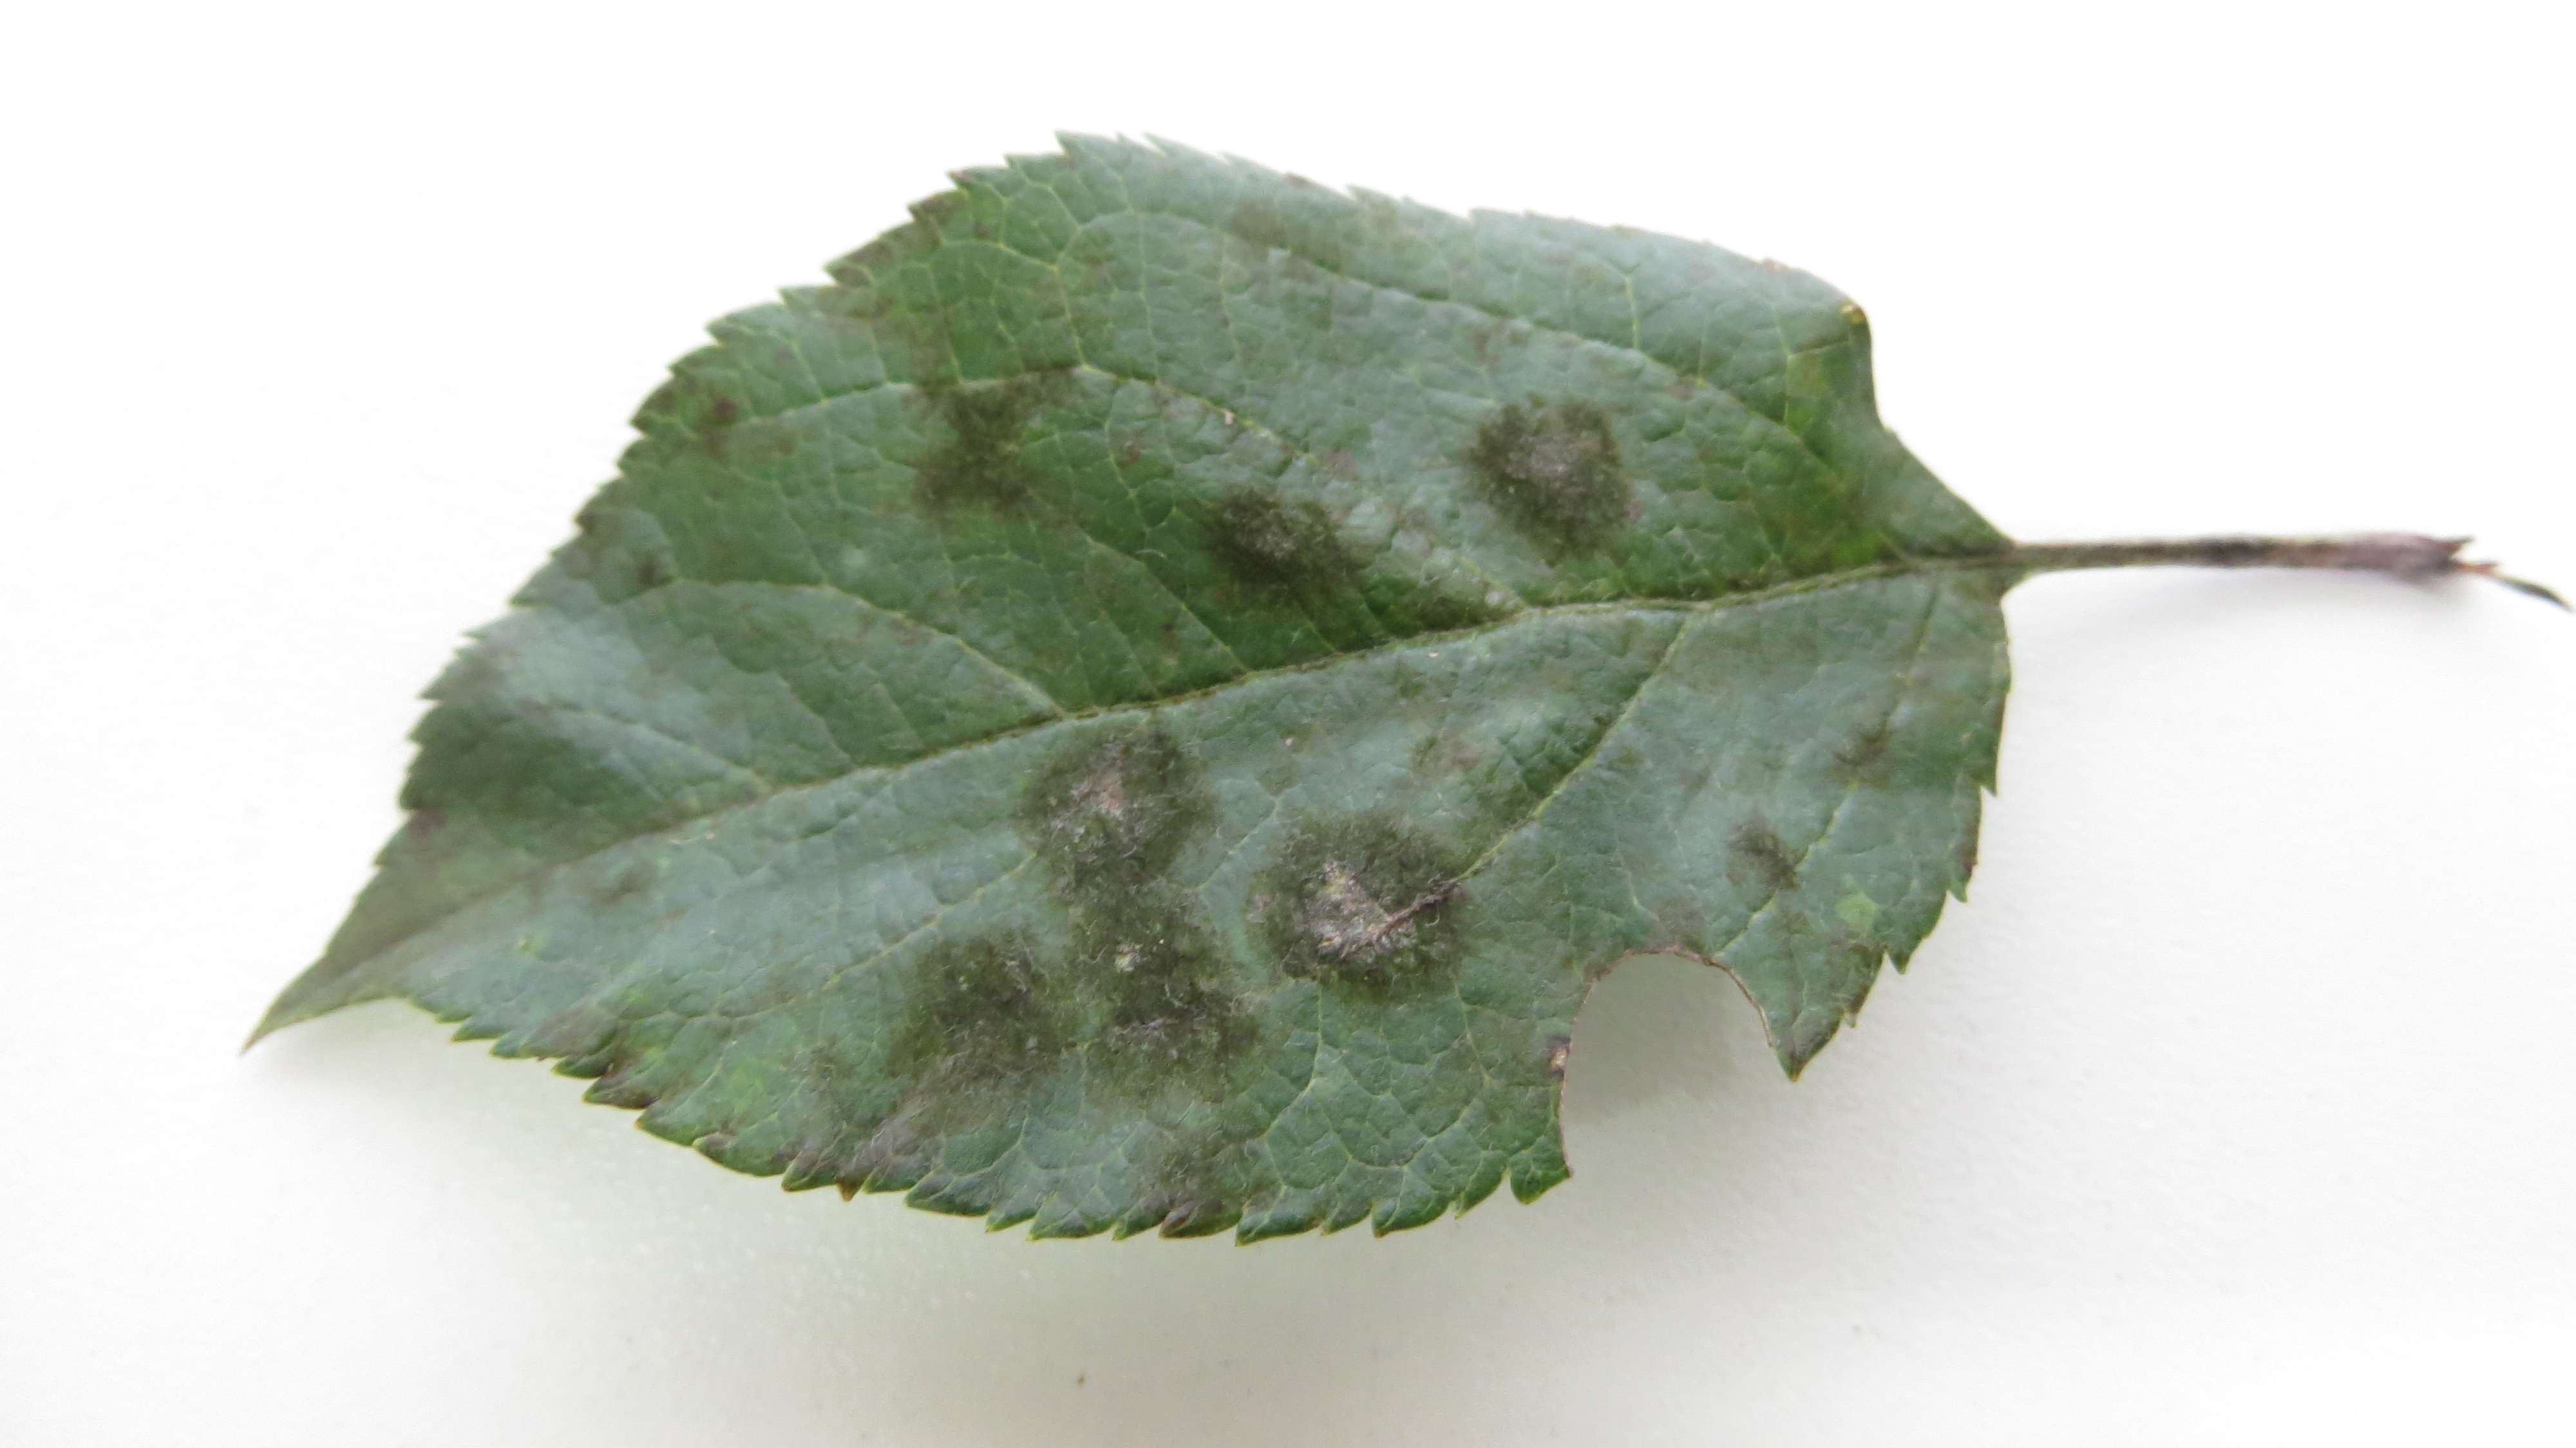sarna: (1251, 804, 1481, 1021), (1062, 880, 1261, 1098), (872, 919, 1070, 1112), (1005, 703, 1212, 885), (902, 345, 1086, 542), (1461, 381, 1640, 575), (1184, 480, 1336, 597), (1120, 1119, 1276, 1227), (660, 384, 778, 478), (1718, 802, 1821, 906), (1821, 699, 1909, 779)
